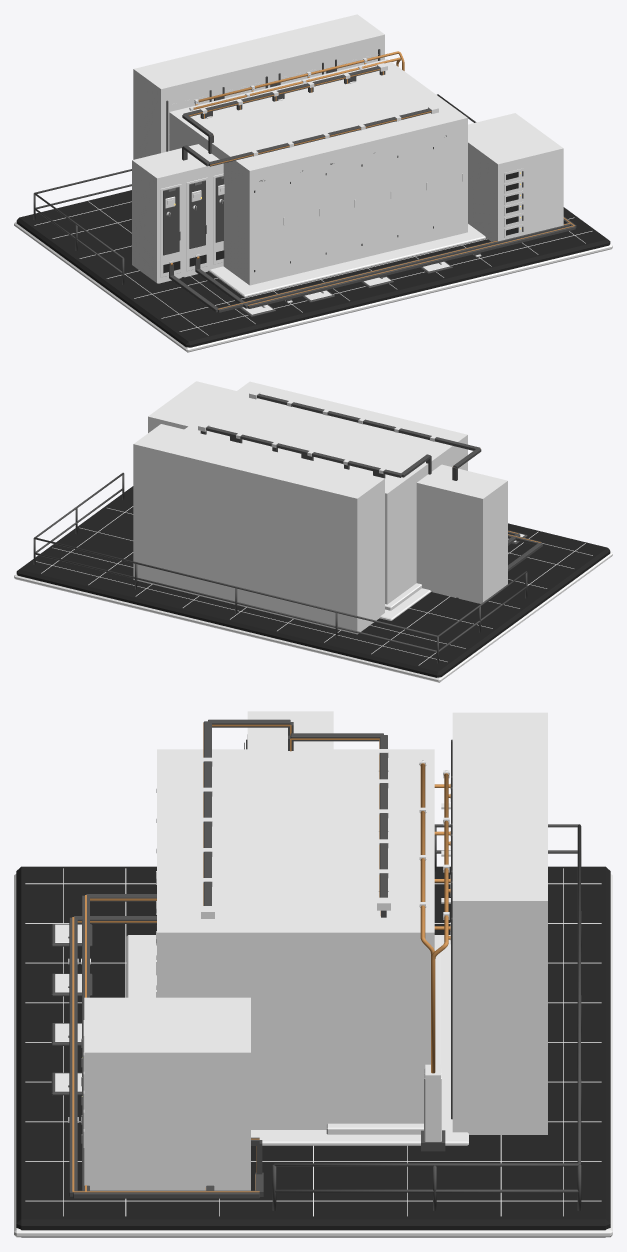
The model's file is facility.glb.
3 renders of one model, top to bottom at view 1: azimuth 30°, elevation 25°; view 2: azimuth 150°, elevation 25°; view 3: azimuth 270°, elevation 25°, orthographic. The views are drawn at different scales.
Parts seen in each view (by area): view 1: GN_PICK_WORKLOADS, GN_PLATFORM_Platform, GN_PICK_COOLING, GN_PICK_STORAGE, GN_PICK_POWER, GN_POWER_Steel, GN_PLATFORM_Dark, GN_PLATFORM_Graphite, GN_STORAGE_Steel, GN_POWER_Graphite, GN_PLATFORM_Steel, GN_ACCENT_COOLING_Copper (+4 smaller); view 2: GN_PICK_COOLING, GN_PLATFORM_Platform, GN_PICK_WORKLOADS, GN_PICK_POWER, GN_PLATFORM_Dark, GN_PLATFORM_Steel, GN_POWER_Steel, GN_PICK_STORAGE, GN_PLATFORM_Graphite, GN_STORAGE_Steel; view 3: GN_PICK_WORKLOADS, GN_PLATFORM_Platform, GN_PICK_COOLING, GN_PICK_STORAGE, GN_PLATFORM_Dark, GN_PLATFORM_Graphite, GN_STORAGE_Steel, GN_PLATFORM_Steel, GN_POWER_Steel, GN_ACCENT_COOLING_Copper, GN_PICK_POWER, GN_ACCENT_STORAGE_Copper (+3 smaller).
Boxes of the visible parts, <box> form: GN_PICK_WORKLOADS: <box>169,59,467,285</box>; GN_PLATFORM_Platform: <box>16,190,610,347</box>; GN_PICK_COOLING: <box>133,14,384,159</box>; GN_PICK_STORAGE: <box>468,113,563,241</box>; GN_PICK_POWER: <box>132,144,223,283</box>; GN_POWER_Steel: <box>163,66,431,255</box>; GN_PLATFORM_Dark: <box>14,201,612,352</box>; GN_PLATFORM_Graphite: <box>208,224,486,314</box>; GN_STORAGE_Steel: <box>169,216,576,312</box>; GN_POWER_Graphite: <box>160,63,438,277</box>; GN_PLATFORM_Steel: <box>33,94,476,316</box>; GN_ACCENT_COOLING_Copper: <box>193,51,404,109</box>; GN_PICK_COOLING: <box>133,424,384,634</box>; GN_PLATFORM_Platform: <box>16,486,610,677</box>; GN_PICK_WORKLOADS: <box>184,381,467,604</box>; GN_PICK_POWER: <box>416,464,507,603</box>; GN_PLATFORM_Dark: <box>14,506,612,682</box>; GN_PLATFORM_Steel: <box>33,472,527,663</box>; GN_POWER_Steel: <box>206,394,481,480</box>; GN_PICK_STORAGE: <box>148,381,236,432</box>; GN_PLATFORM_Graphite: <box>380,533,524,620</box>; GN_STORAGE_Steel: <box>508,530,542,571</box>; GN_PICK_WORKLOADS: <box>157,749,434,1129</box>; GN_PLATFORM_Platform: <box>16,866,610,1237</box>; GN_PICK_COOLING: <box>452,712,547,1134</box>; GN_PICK_STORAGE: <box>84,997,250,1190</box>; GN_PLATFORM_Dark: <box>14,868,612,1237</box>; GN_PLATFORM_Graphite: <box>55,924,468,1145</box>; GN_STORAGE_Steel: <box>69,894,263,1198</box>; GN_PLATFORM_Steel: <box>51,824,581,1210</box>; GN_POWER_Steel: <box>203,719,387,905</box>; GN_ACCENT_COOLING_Copper: <box>420,763,450,1073</box>; GN_PICK_POWER: <box>247,711,333,749</box>; GN_ACCENT_STORAGE_Copper: <box>72,895,259,1192</box>.
Bounding box in the file's own units: 10.86 × 3.59 × 7.66.
Materials: 8 (8 with a texture image).
